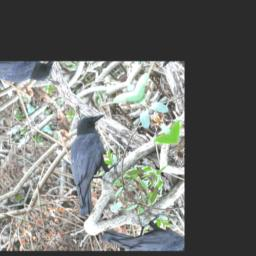Crow: (32, 105, 150, 221)
